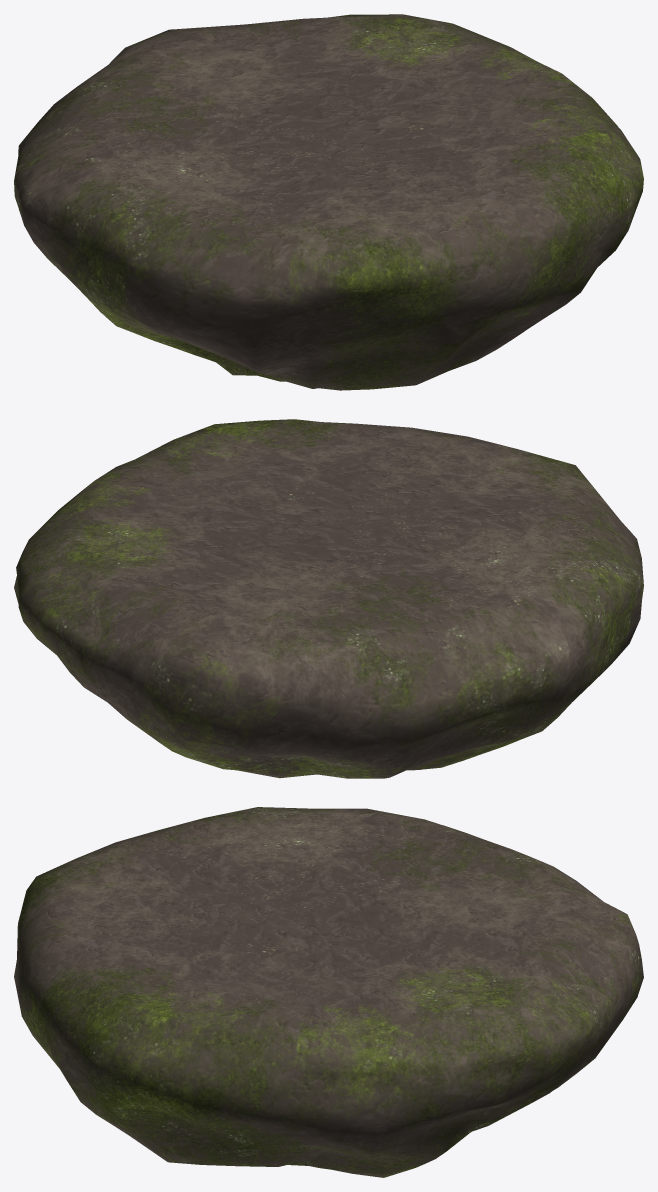
The model's file is Land2.fbx.
3 views of the same model, one above another, from view 1: azimuth 30°, elevation 25°; view 2: azimuth 150°, elevation 25°; view 3: azimuth 270°, elevation 25° (orthographic).
Visible parts, largest first — view 1: Land2; view 2: Land2; view 3: Land2.
Part boxes in pixels (x1,y1,x2,y2): Land2: [14, 14, 643, 390]; Land2: [14, 419, 643, 778]; Land2: [14, 807, 643, 1177].
Bounding box in the file's own units: 7978 × 3193 × 8044.
1 material, 1 textured.
